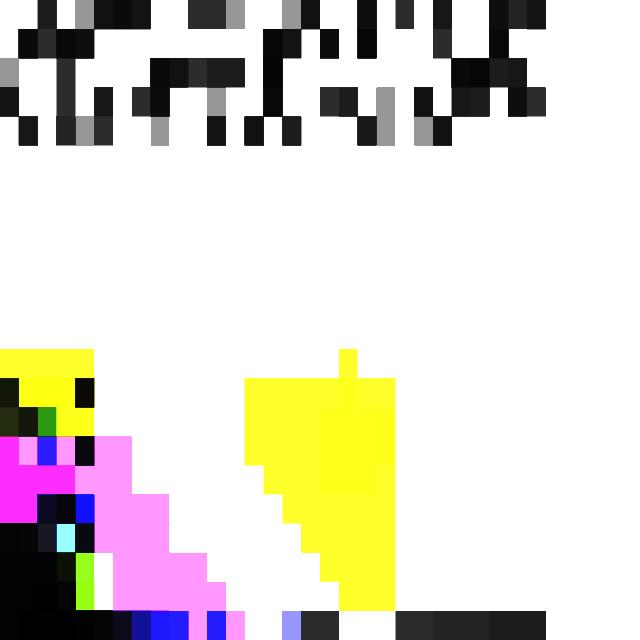arms: (0, 0, 640, 640), (0, 494, 640, 640)
